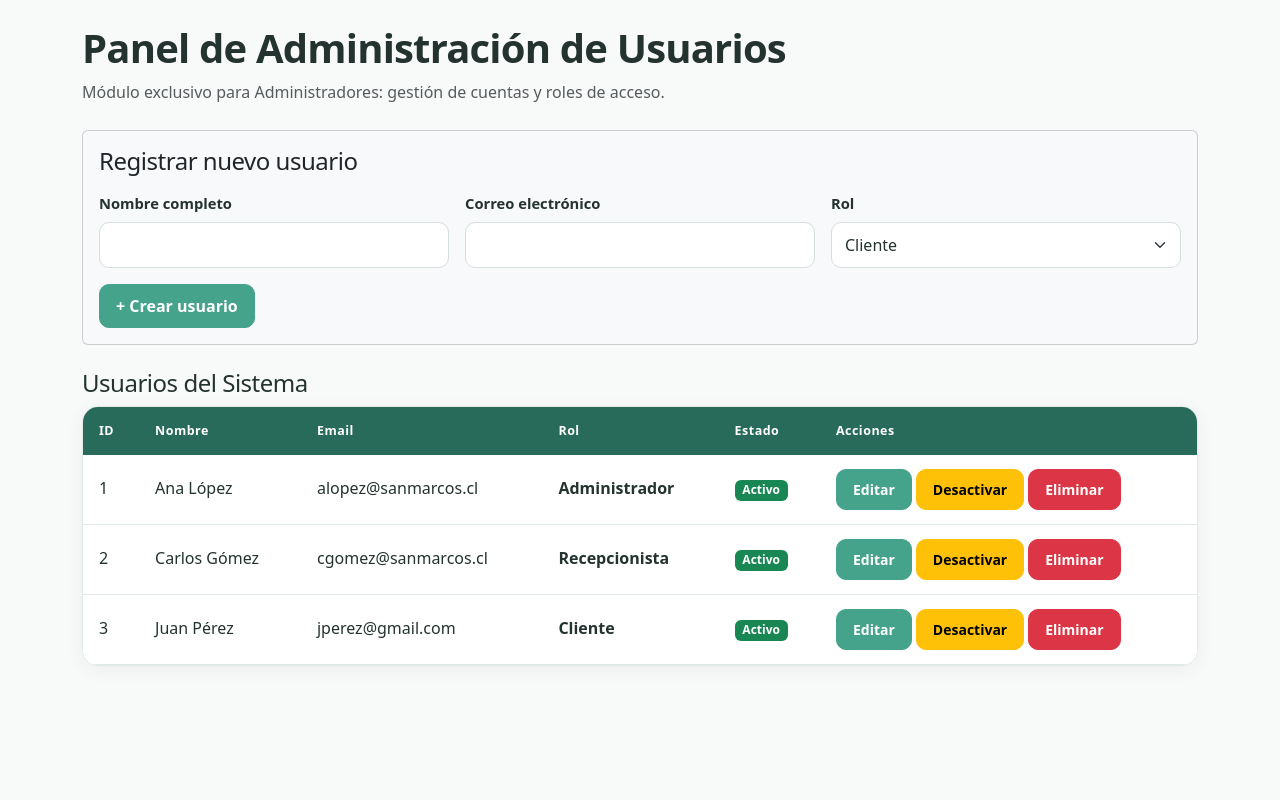
UsuariosPage › cancelar la edición limpia el formulario
Click the button with aria-label "Editar Ana López". click: click(874, 489)
box: [836,469,912,510]
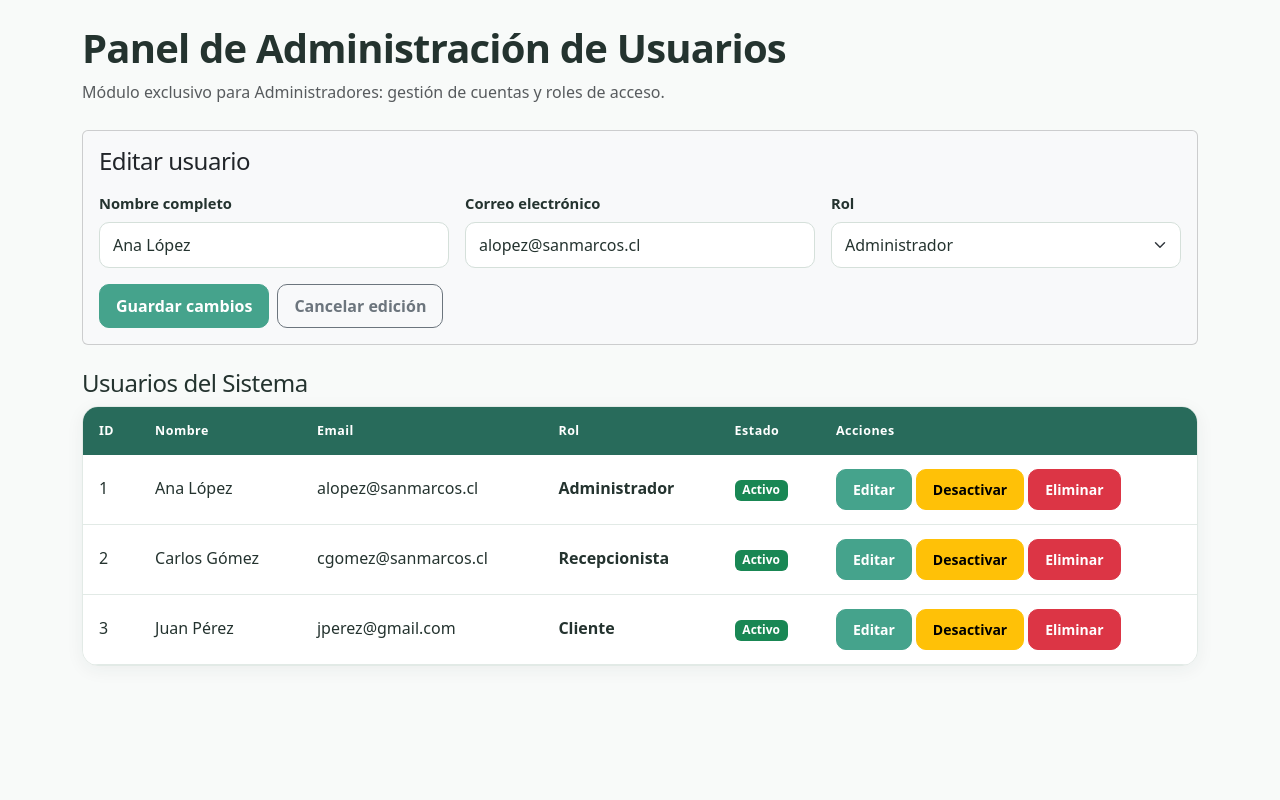
Click the button "Cancelar edición". click: click(360, 306)
box: [277,284,443,328]
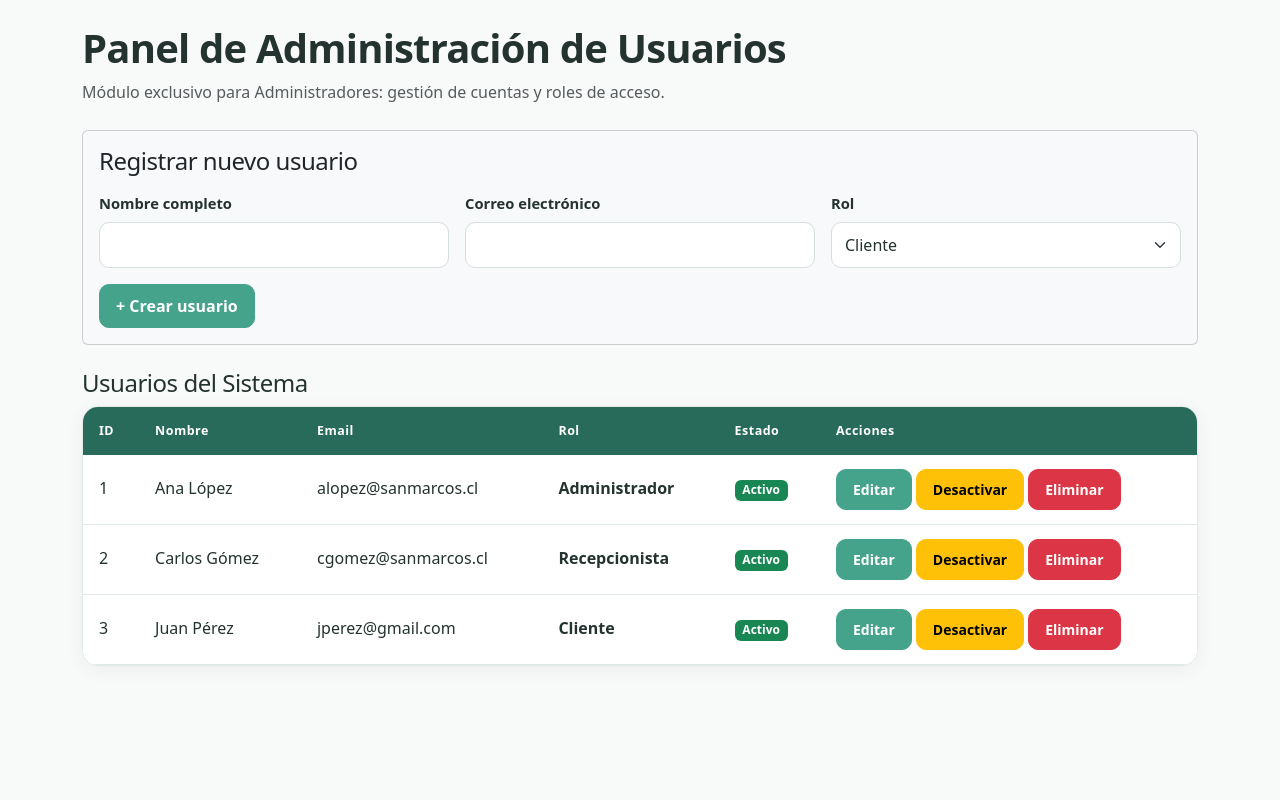
Expected: the field labelled "Nombre completo" is empty, [99,222,449,268]
Expected: the button "+ Crear usuario" is shown, [99,284,255,328]
